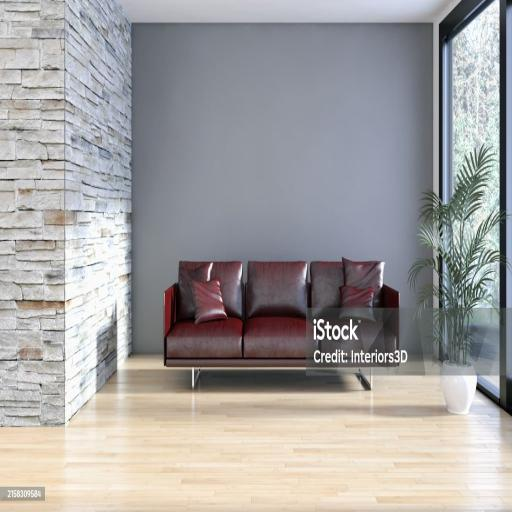back_cushion: (176, 258, 384, 321)
left_arm: (382, 285, 399, 341)
legs: (356, 369, 372, 389), (192, 367, 200, 389)
right_arm: (164, 283, 176, 339)
seat_cushion: (165, 310, 404, 369)
stallion-sofa: (164, 258, 406, 389)
